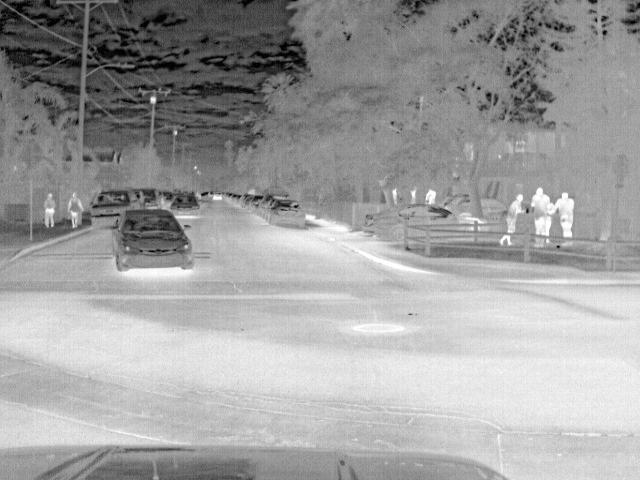car: (112, 209, 195, 271), (90, 190, 142, 232), (360, 200, 405, 243), (271, 199, 308, 229), (405, 201, 456, 222), (170, 192, 203, 220), (134, 188, 162, 210), (258, 194, 284, 216), (445, 194, 472, 215), (250, 194, 265, 213), (209, 190, 224, 202)
person: (500, 194, 528, 245), (548, 189, 574, 239), (529, 184, 548, 248), (65, 188, 87, 232), (42, 190, 56, 231)
